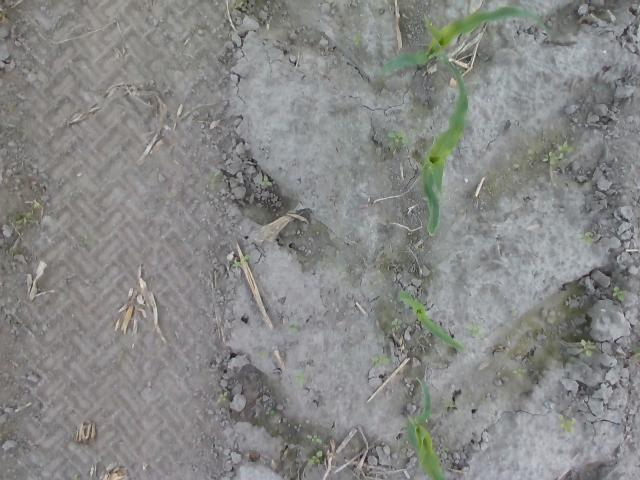Maize: (380, 6, 552, 78), (420, 40, 470, 238), (398, 288, 466, 354), (405, 375, 447, 480)
Weeds: (542, 141, 574, 163), (556, 412, 578, 432), (578, 338, 598, 357), (387, 128, 408, 146), (306, 448, 324, 468), (369, 353, 391, 366), (611, 285, 626, 302), (12, 213, 29, 226), (578, 231, 592, 246), (293, 370, 305, 386), (260, 174, 272, 188), (512, 368, 524, 380), (470, 324, 480, 338), (310, 433, 322, 444), (391, 318, 402, 330), (352, 33, 362, 46), (264, 406, 276, 416), (216, 391, 228, 401), (288, 324, 298, 333)
